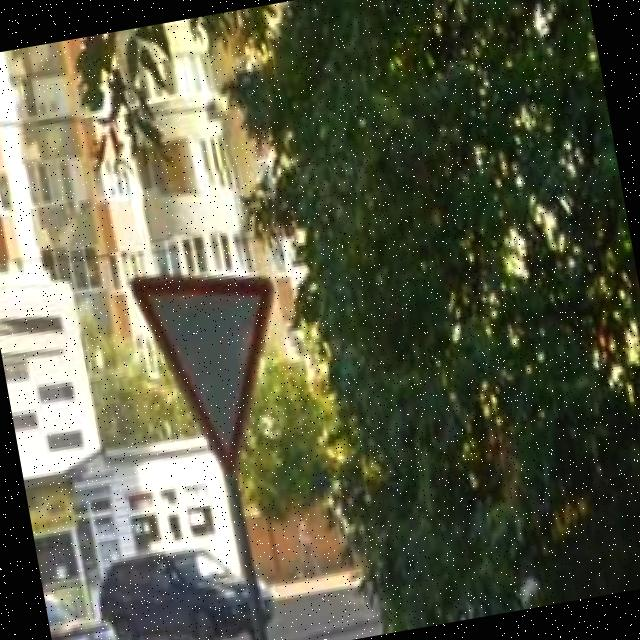Ustap pierwszenstwa: (125, 251, 308, 498)
